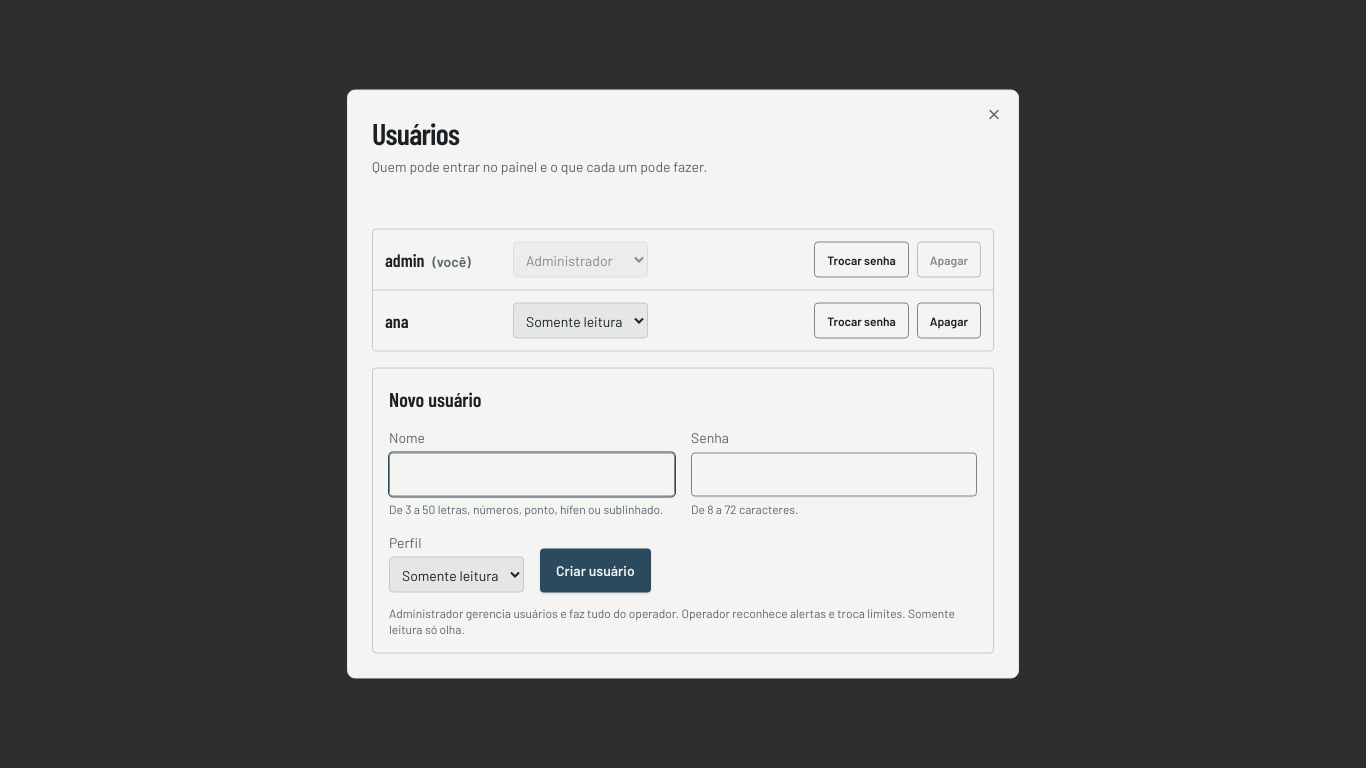
GerenciarUsuarios › troca a senha de um usuário
Expected: the list is shown, left=372, top=228, right=994, bottom=352
Click the button with aria-label "Trocar a senha de ana" at (862, 320), box left=814, top=302, right=909, bottom=338
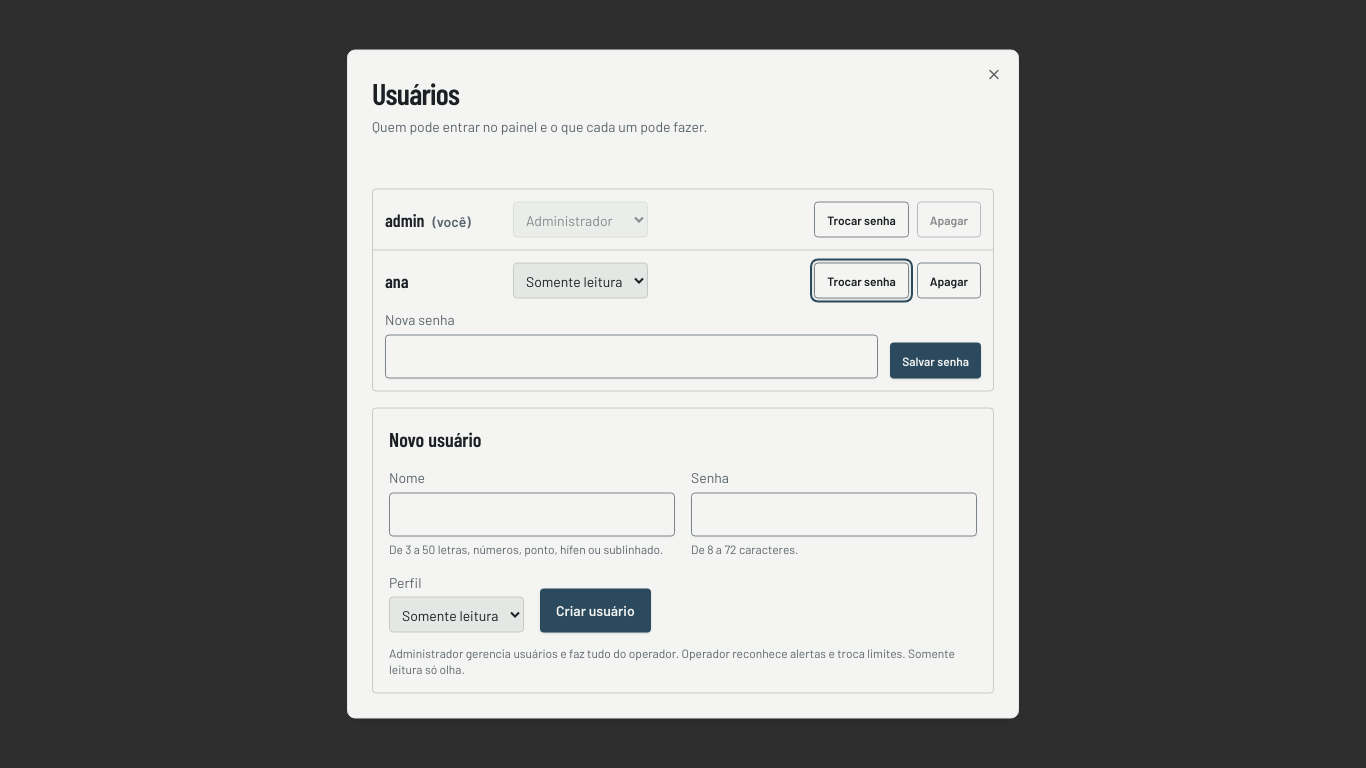
Type "outra-senha-123" into the password field labelled "Nova senha" at (632, 356), box left=385, top=334, right=878, bottom=378
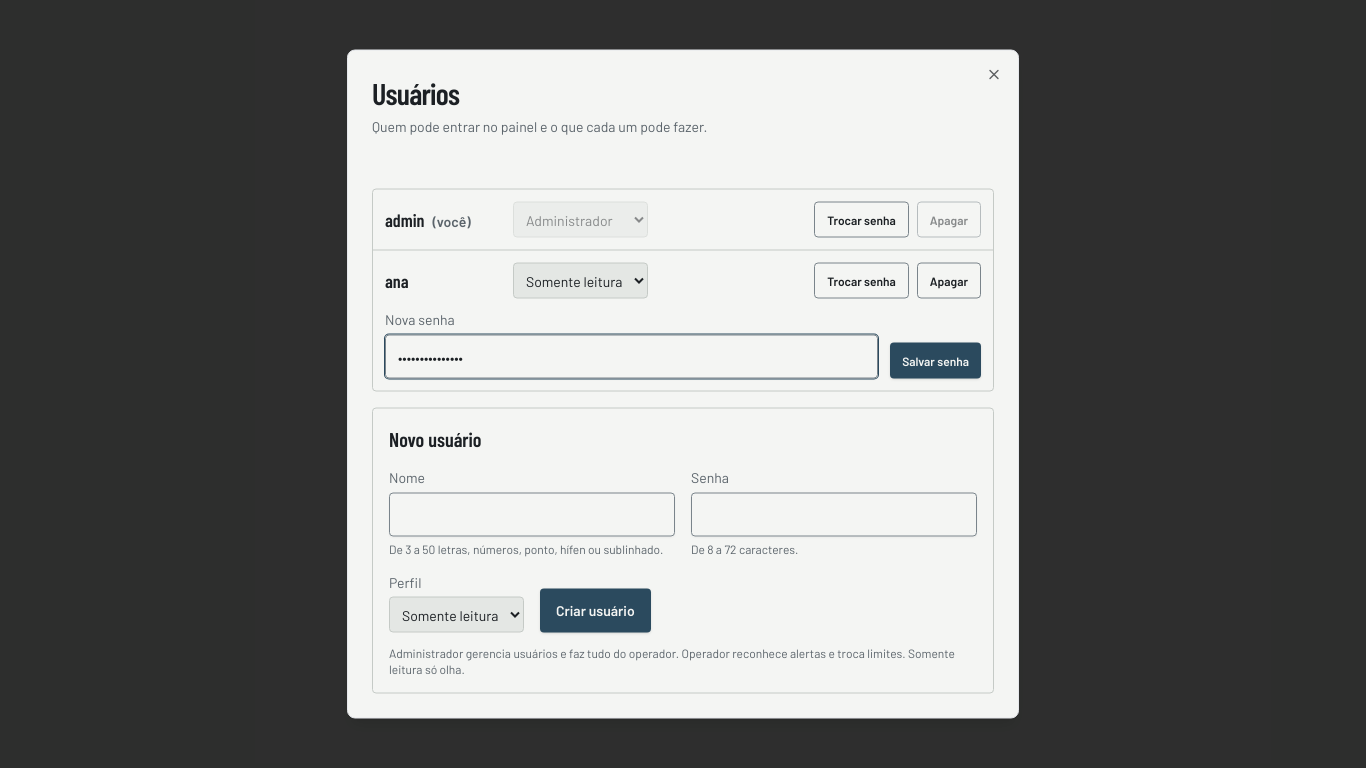
Click the button "Salvar senha" at (936, 360), box left=890, top=342, right=981, bottom=378
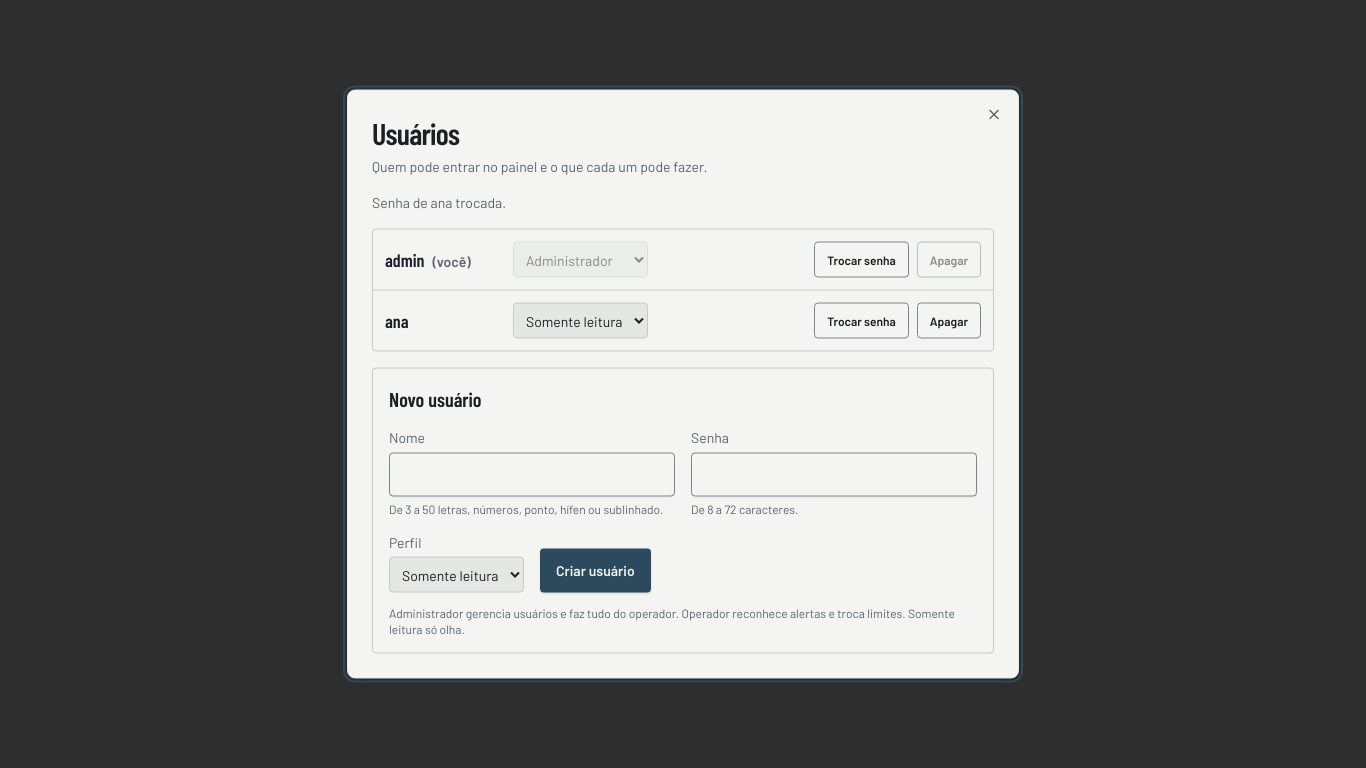
Expected: the message reads "Senha de ana trocada.", left=372, top=194, right=506, bottom=210
Expected: the label labelled "Nova senha" is gone
